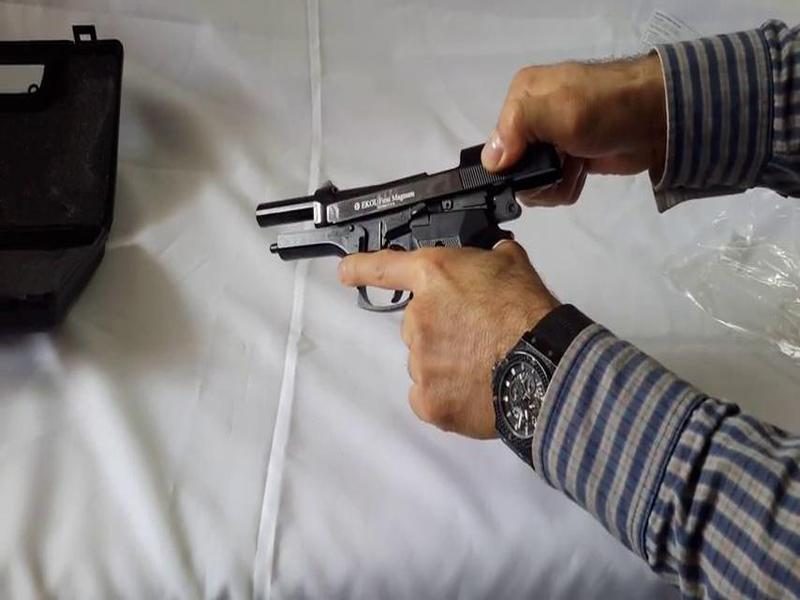Pistola: (252, 125, 561, 375)
